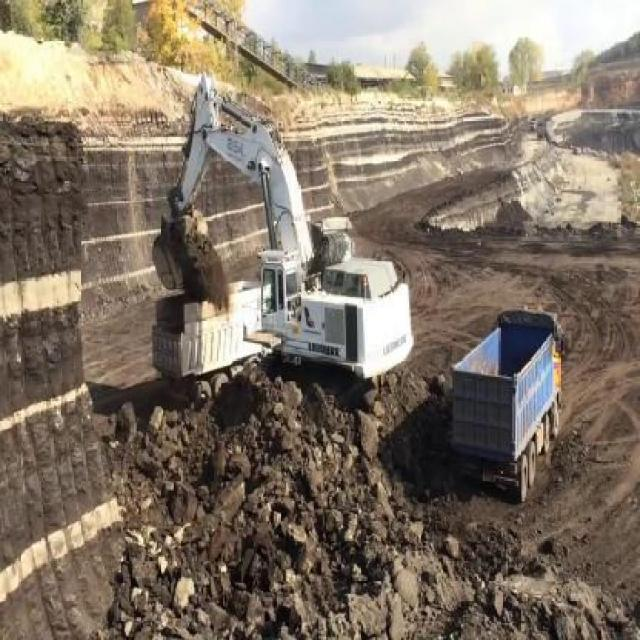Dump Truck: (449, 304, 563, 498), (152, 281, 257, 379)
Excavator: (155, 76, 414, 392)
